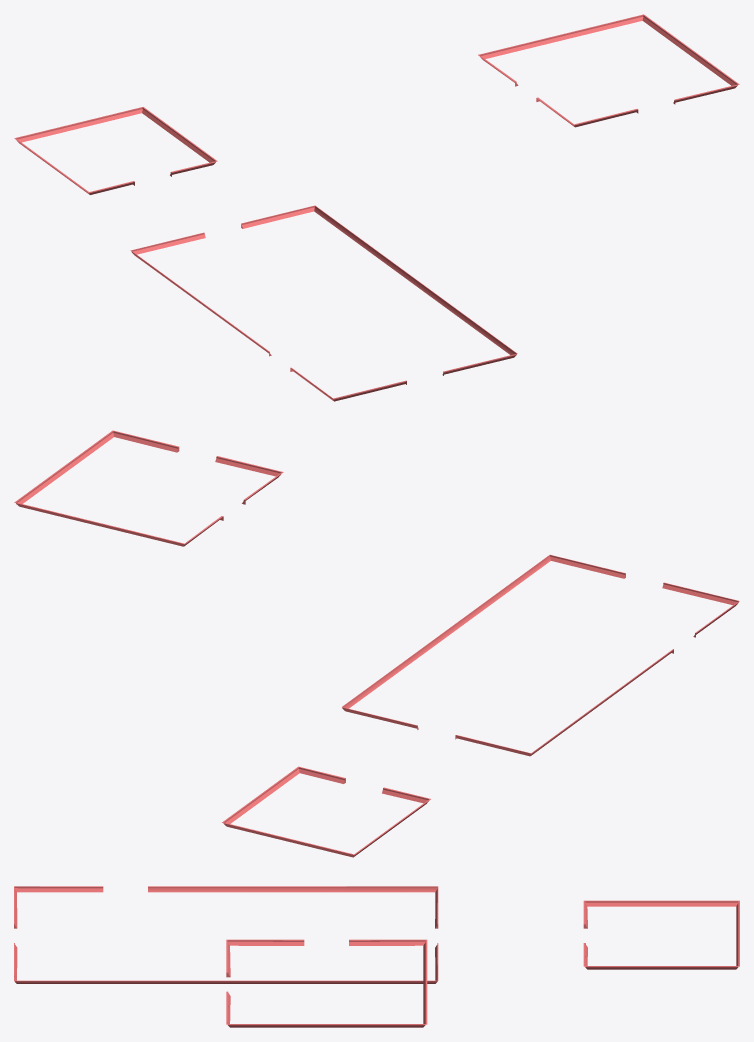
The model's file is building_trim_lower_lp.FBX.
3 renders of one model, top to bottom at view 1: azimuth 30°, elevation 25°; view 2: azimuth 150°, elevation 25°; view 3: azimuth 270°, elevation 25°, orthographic. The views are drawn at different scales.
Visible parts, largest first — view 1: level_building_trim_lower; view 2: level_building_trim_lower; view 3: level_building_trim_lower.
Boxes of the visible parts, x1,y1,x2,y2 form: level_building_trim_lower: (14, 14, 739, 401); level_building_trim_lower: (14, 430, 739, 857); level_building_trim_lower: (14, 886, 739, 1027).
Bounding box in the file's own units: 1083 × 1280 × 245.
